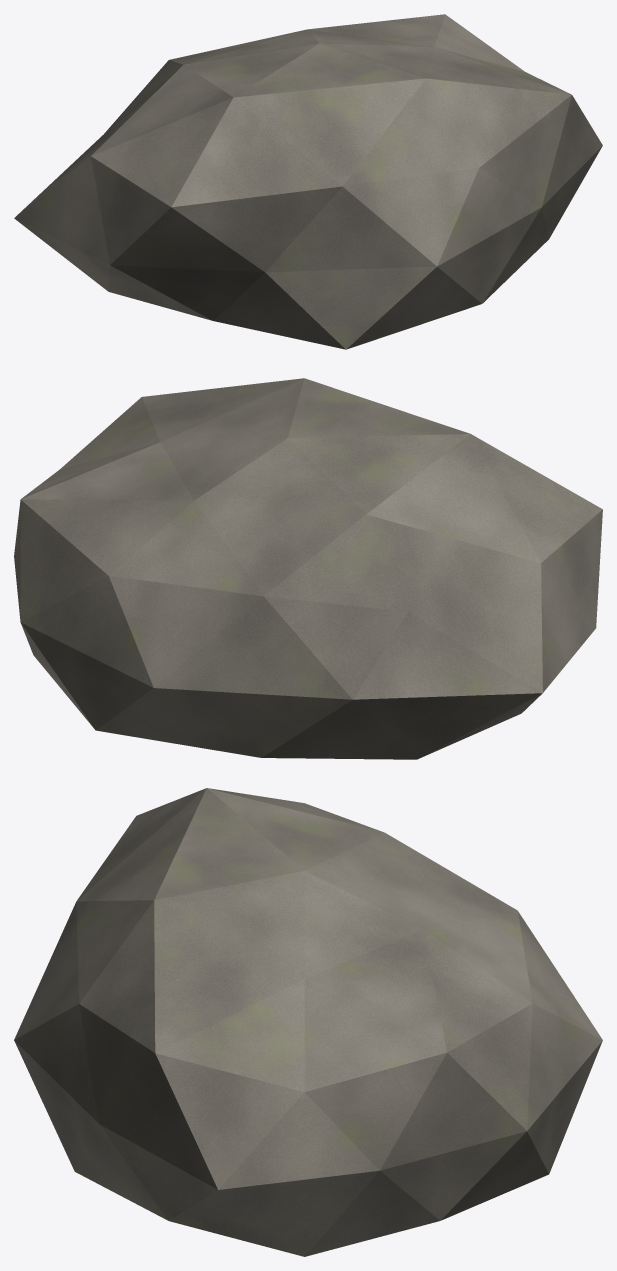
Rendered from roccia_2.glb.
The picture shows the model from 3 angles, top to bottom: view 1: azimuth 30°, elevation 25°; view 2: azimuth 150°, elevation 25°; view 3: azimuth 270°, elevation 25°; orthographic projection. The views are drawn at different scales.
Parts seen in each view (by area): view 1: roccia_2; view 2: roccia_2; view 3: roccia_2.
Boxes of the visible parts, <box> form: roccia_2: <box>14,14,602,349</box>; roccia_2: <box>14,378,602,759</box>; roccia_2: <box>14,788,602,1256</box>.
Size of the model in its own units: 2.43 by 0.965 by 1.94.
Materials: 1 (1 with a texture image).
